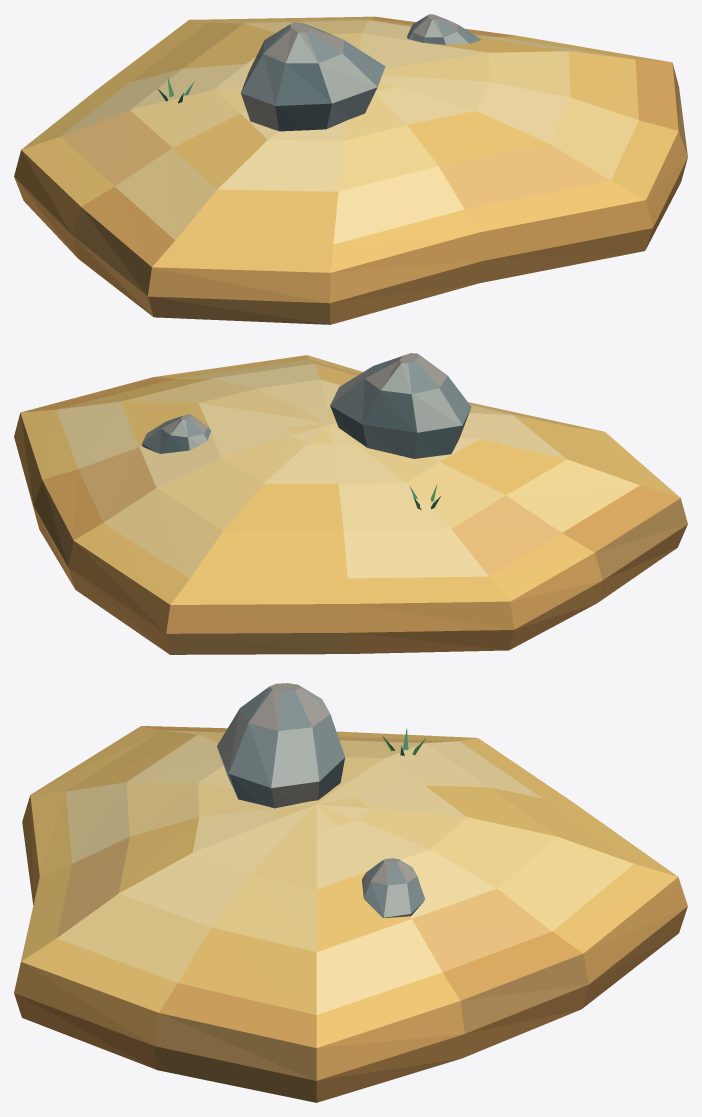
The model's file is Island_02_Sand.obj.
The picture shows the model from 3 angles, top to bottom: view 1: azimuth 30°, elevation 25°; view 2: azimuth 150°, elevation 25°; view 3: azimuth 270°, elevation 25°; orthographic projection. The views are drawn at different scales.
Visible parts, largest first — view 1: Island_02_Sand; view 2: Island_02_Sand; view 3: Island_02_Sand.
Boxes of the visible parts, x1,y1,x2,y2 form: Island_02_Sand: (14,14,687,324); Island_02_Sand: (14,353,687,654); Island_02_Sand: (14,683,687,1102).
Size of the model in its own units: 6.21 by 1.85 by 5.38.
1 material, 1 textured.
